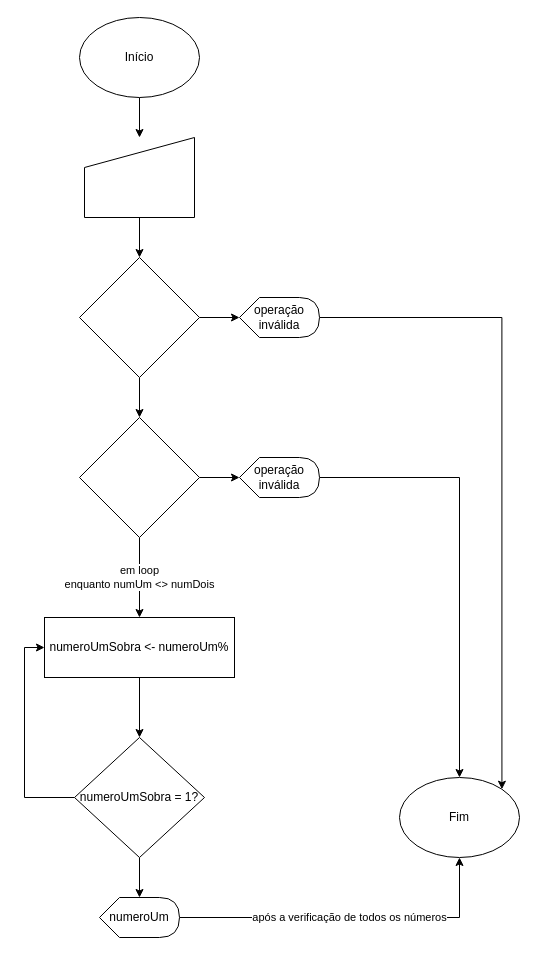
This 537x955 diagram has some shape labels left out. Here are the shapes that lost their labels. From the top down, the box of each, then its label:
(84, 136, 194, 218): Numero de Início; Numero de Fim;
(78, 256, 200, 378): numIni > numFim
(78, 416, 200, 538): numIni = numFim
